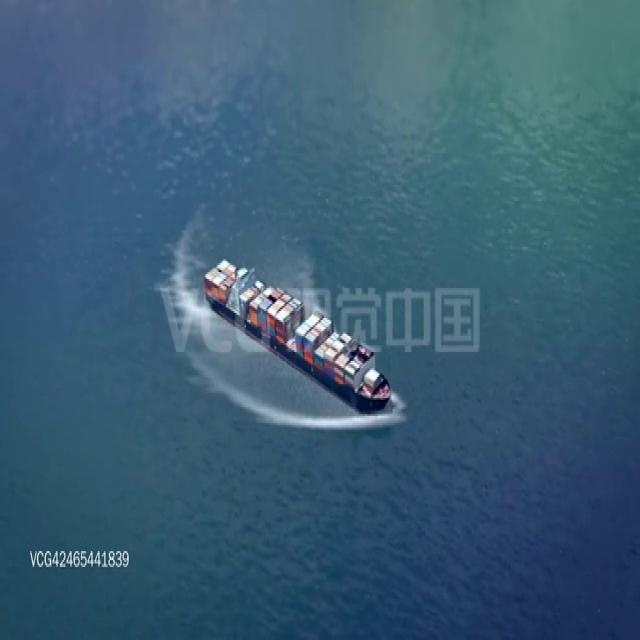cargoship: (204, 258, 389, 416)
